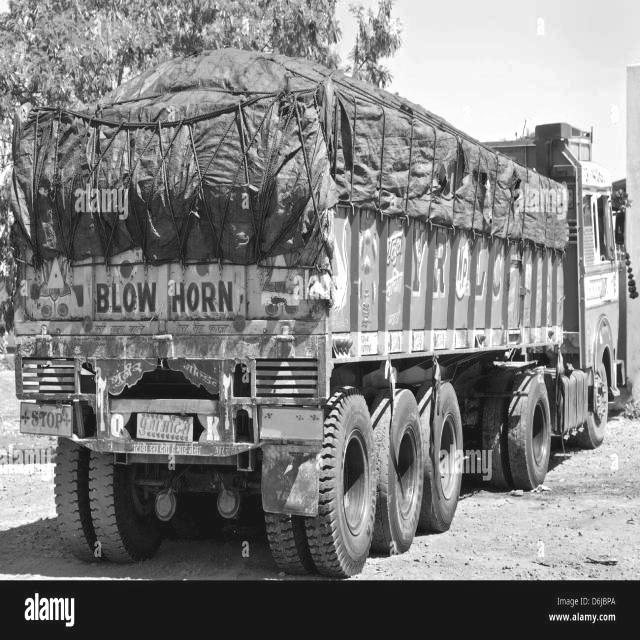HCV: (5, 50, 626, 582)
